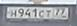license-plateSW: (6, 6, 70, 20)
